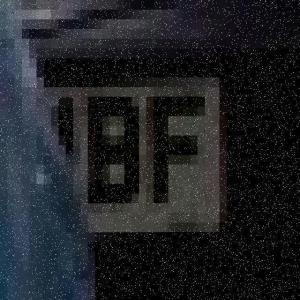Plate: (27, 50, 248, 254)
